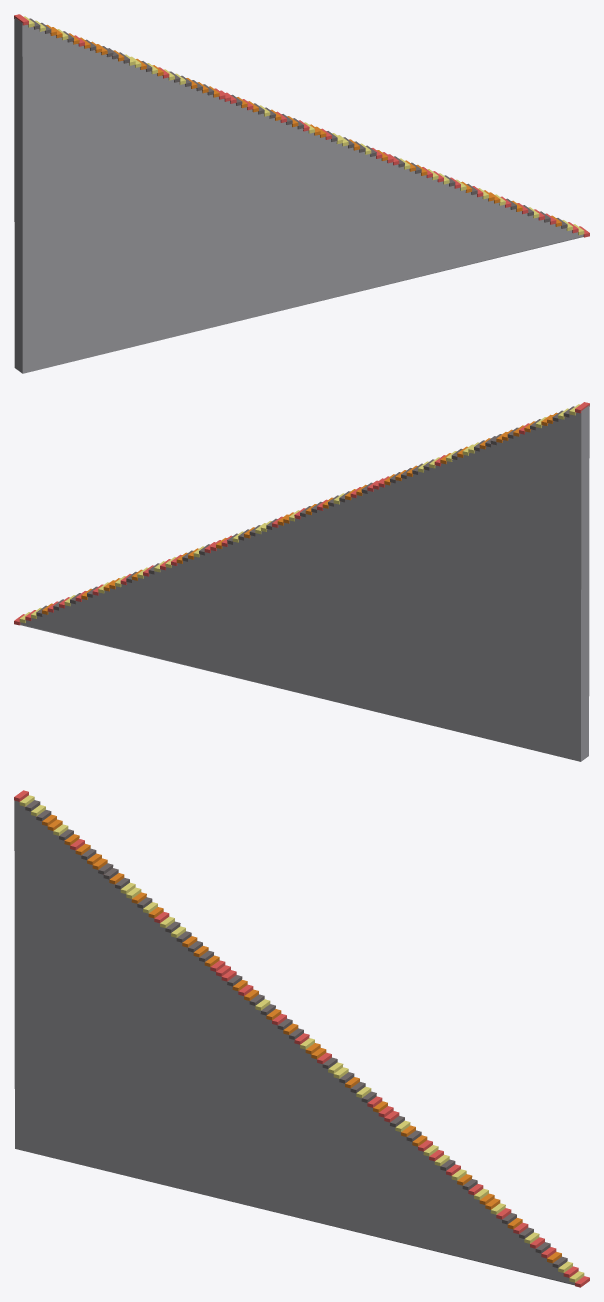
The model's file is rewardstairs02.fbx.
The picture shows the model from 3 angles, top to bottom: view 1: azimuth 30°, elevation 25°; view 2: azimuth 150°, elevation 25°; view 3: azimuth 330°, elevation 25°; orthographic projection.
Visible parts, largest first — view 1: Cube.001; view 2: Cube.001; view 3: Cube.001.
Part boxes in pixels (bbox=[...]): Cube.001: bbox=[14, 14, 589, 373]; Cube.001: bbox=[14, 402, 589, 761]; Cube.001: bbox=[14, 790, 589, 1287].
Bounding box in the file's own units: 2156 × 1281 × 61.36.
